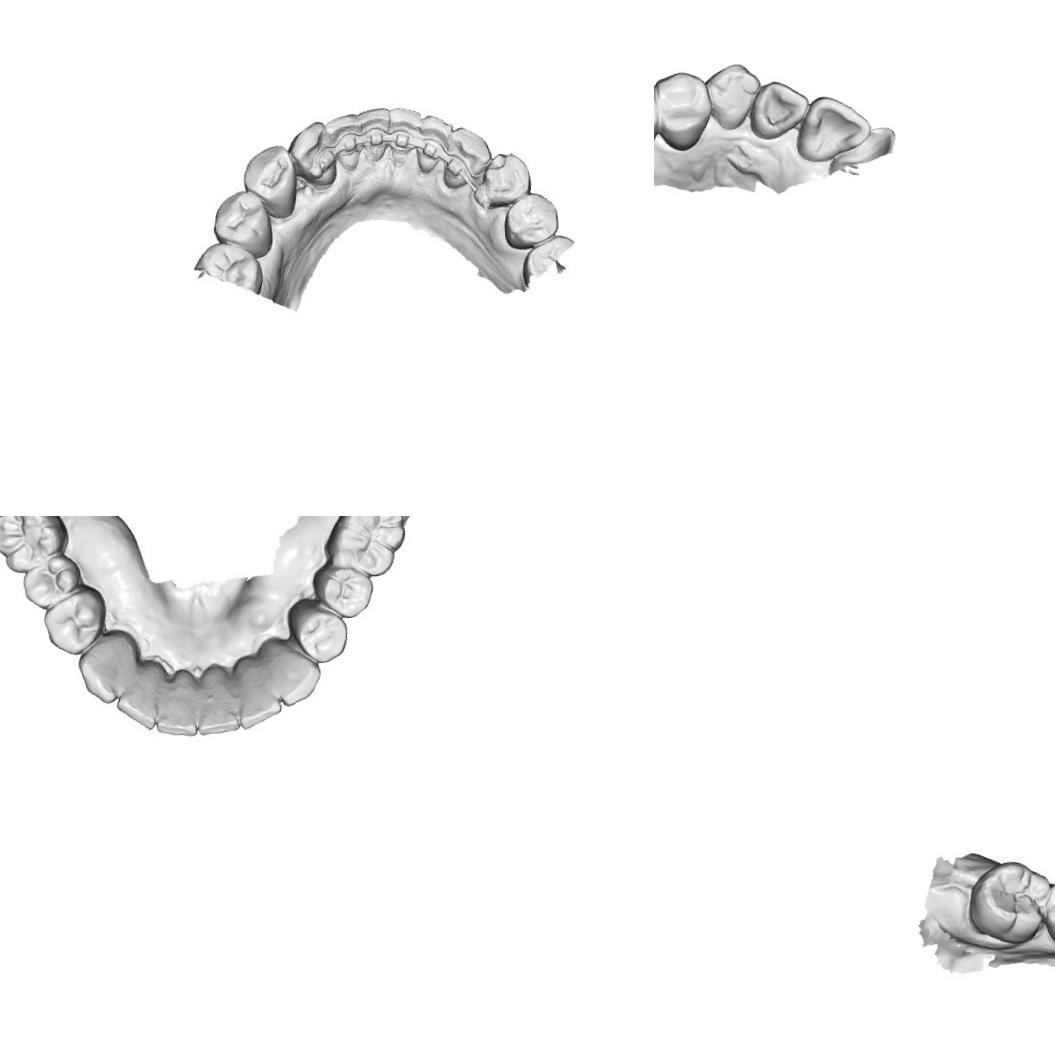canine: (703, 60, 765, 133), (282, 117, 342, 190), (74, 633, 136, 703), (260, 636, 318, 702), (438, 122, 492, 187)
incisor: (791, 91, 874, 163), (746, 78, 811, 142), (150, 665, 202, 739), (110, 661, 163, 732), (188, 662, 238, 737), (234, 651, 282, 729), (387, 102, 427, 160), (414, 113, 452, 167), (325, 113, 364, 165), (358, 107, 391, 158)
molar: (962, 857, 1052, 947), (316, 516, 411, 582), (0, 516, 72, 577)
premolar: (654, 67, 715, 154), (38, 586, 109, 658), (287, 597, 350, 664), (309, 560, 375, 620), (242, 146, 296, 213), (19, 552, 80, 610), (210, 192, 268, 250), (472, 152, 532, 205), (506, 194, 560, 240)
